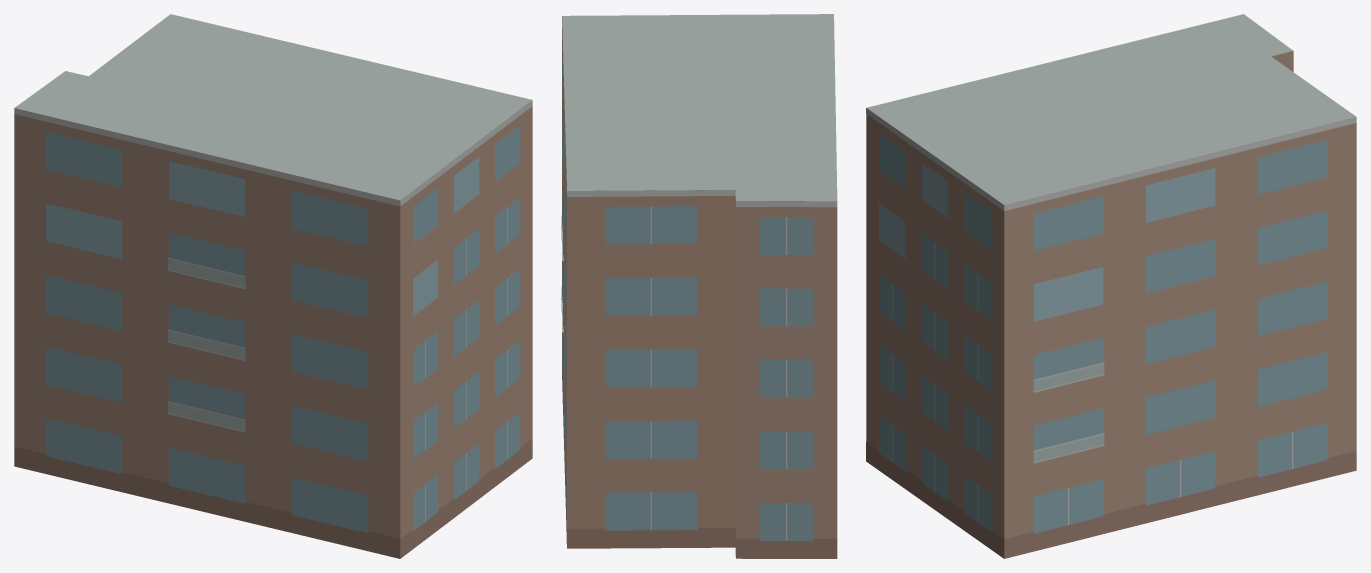
The model's file is survey-upis-32748326.glb.
3 renders of one model, left to right at view 1: azimuth 30°, elevation 25°; view 2: azimuth 150°, elevation 25°; view 3: azimuth 270°, elevation 25°, orthographic.
Visible parts, largest first — view 1: survey-upis-32748326.tmp; view 2: survey-upis-32748326.tmp; view 3: survey-upis-32748326.tmp.
Boxes of the visible parts, x1,y1,x2,y2 form: survey-upis-32748326.tmp: (14,14,532,558); survey-upis-32748326.tmp: (561,14,837,558); survey-upis-32748326.tmp: (866,14,1356,558).
Size of the model in its own units: 16.82 by 14.5 by 18.23.
